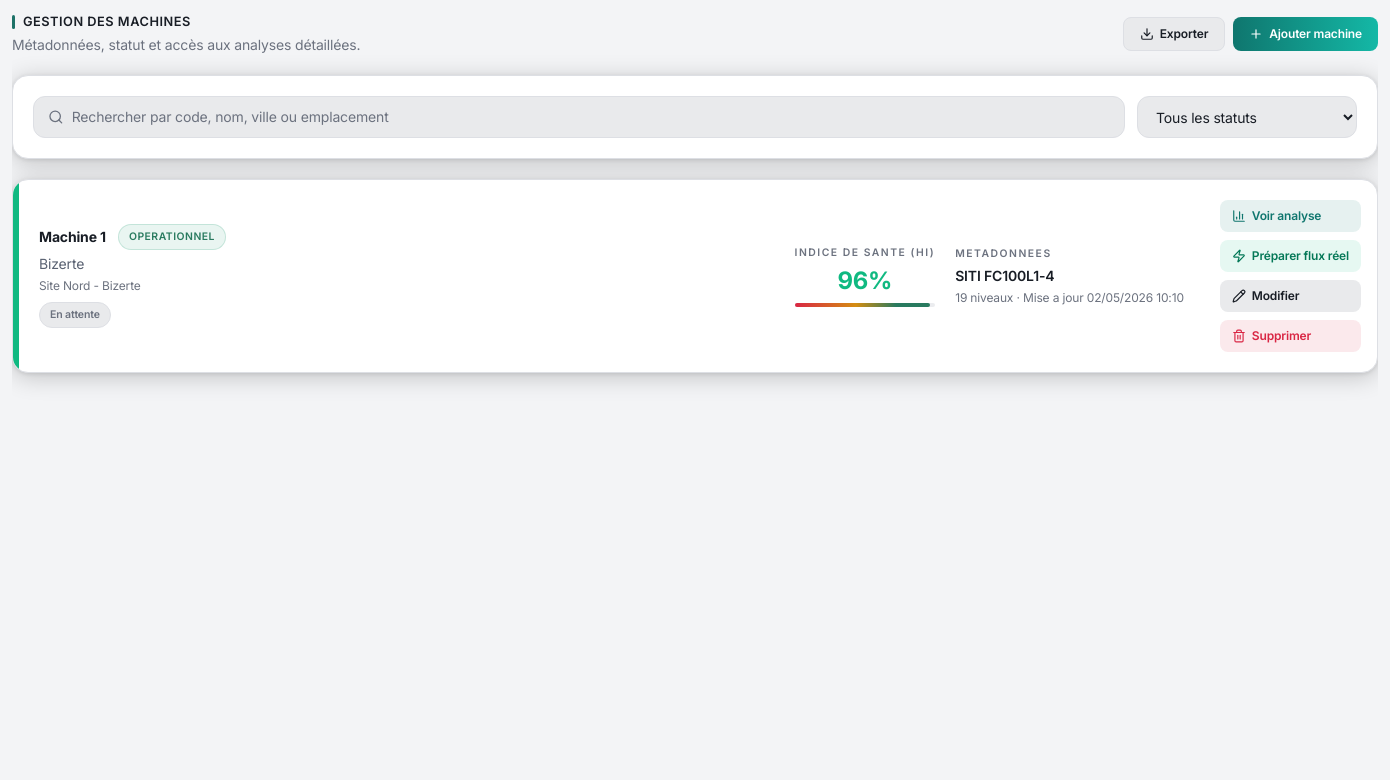
Test: MachinesPage › closes the add form after a successful machine creation
This screenshot has width=1390, height=780.
Click the button "Ajouter machine" at point(1306, 34), box x1=1233 y1=17 x2=1378 y2=51
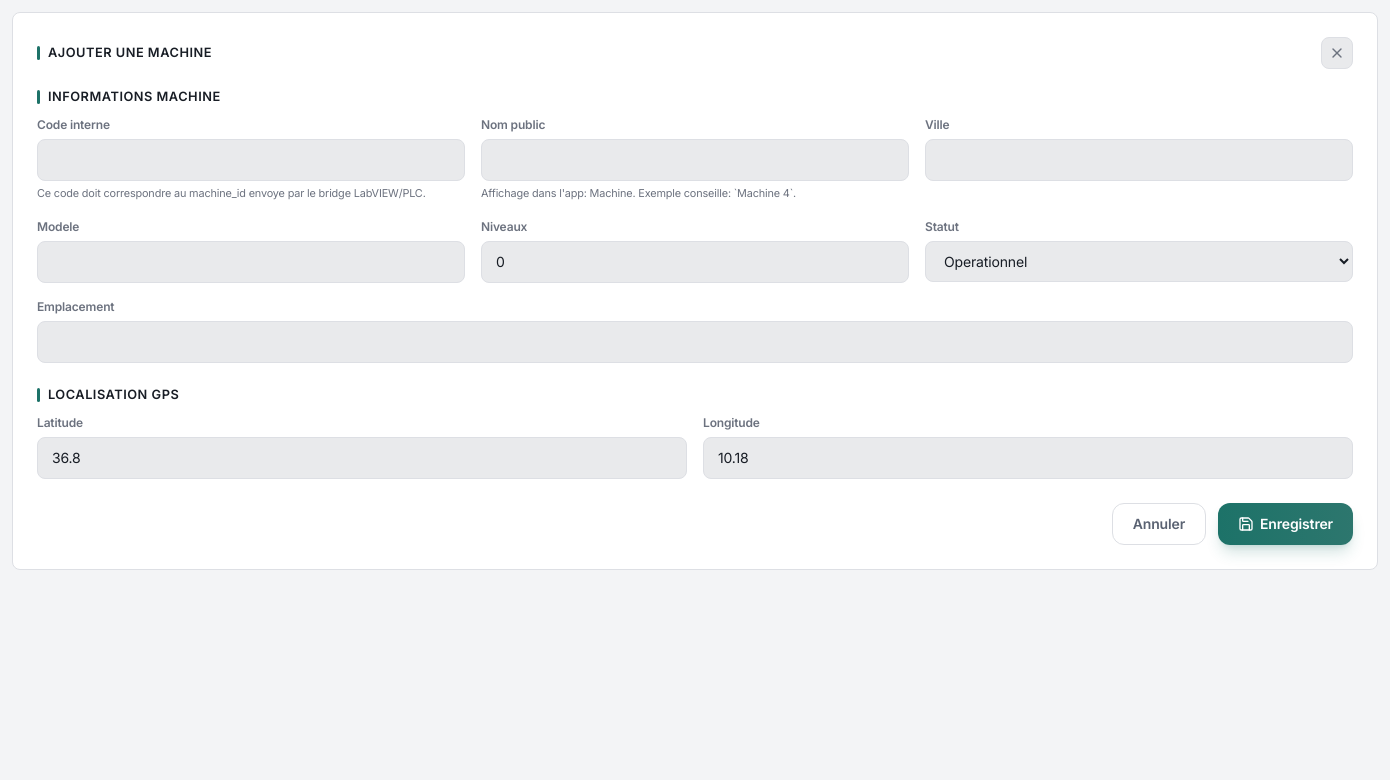
Type "ASC-Z9" into the field below "Code interne" at point(251, 160), box x1=37 y1=139 x2=465 y2=181
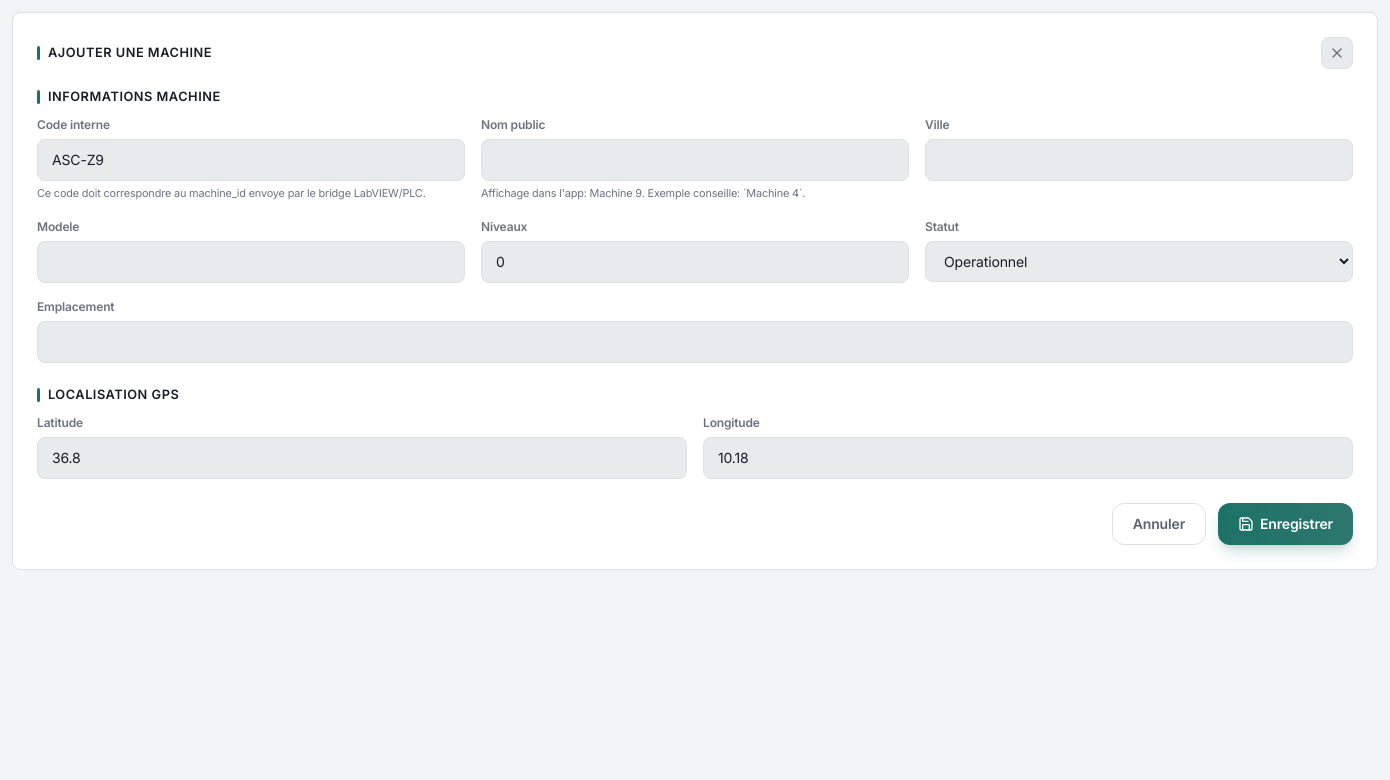
Type "Machine Z" into the field below "Nom public" at point(695, 160), box x1=481 y1=139 x2=909 y2=181
Type "Tunis" into the field below "Ville" at point(1139, 160), box x1=925 y1=139 x2=1353 y2=181
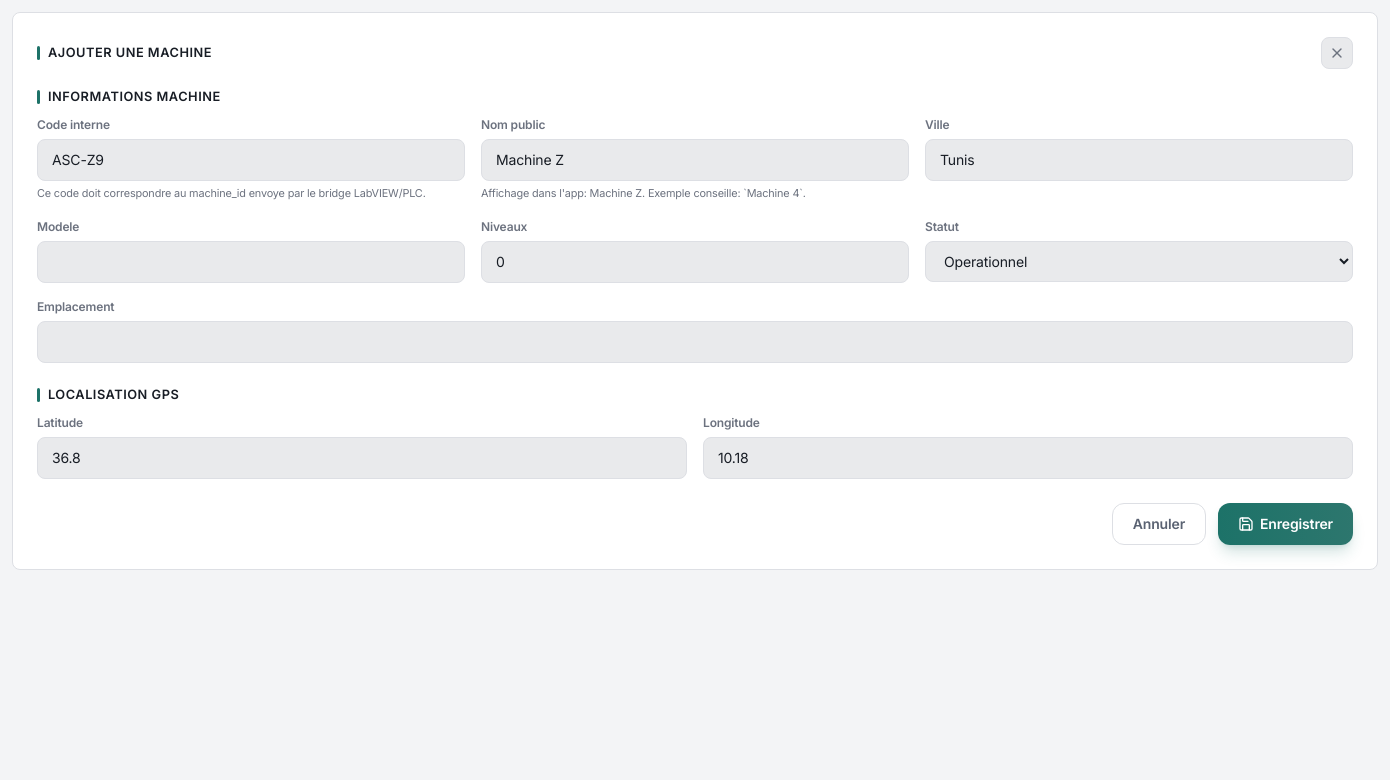
Type "Model X" into the field below "Modele" at point(251, 262), box x1=37 y1=241 x2=465 y2=283
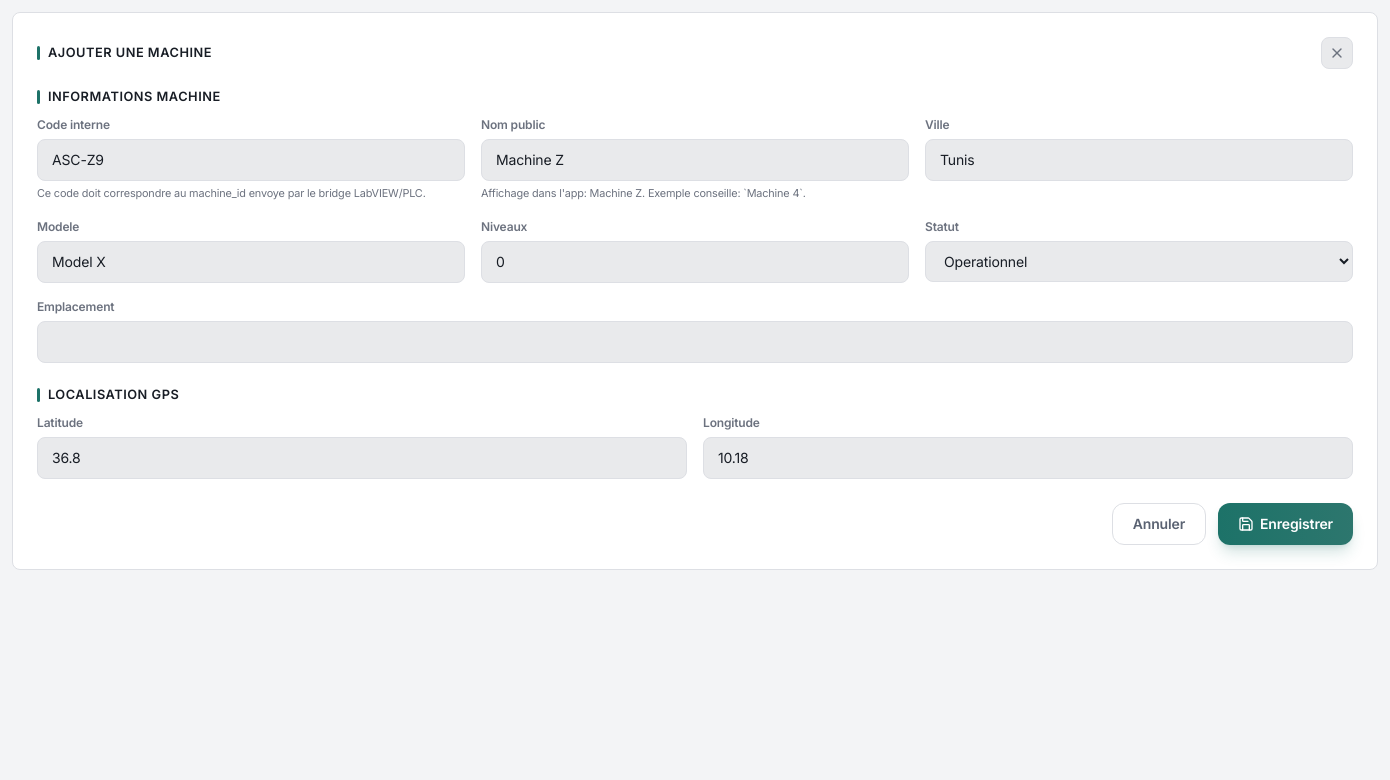
Type "Zone Test" into the field below "Emplacement" at point(695, 342), box x1=37 y1=321 x2=1353 y2=363
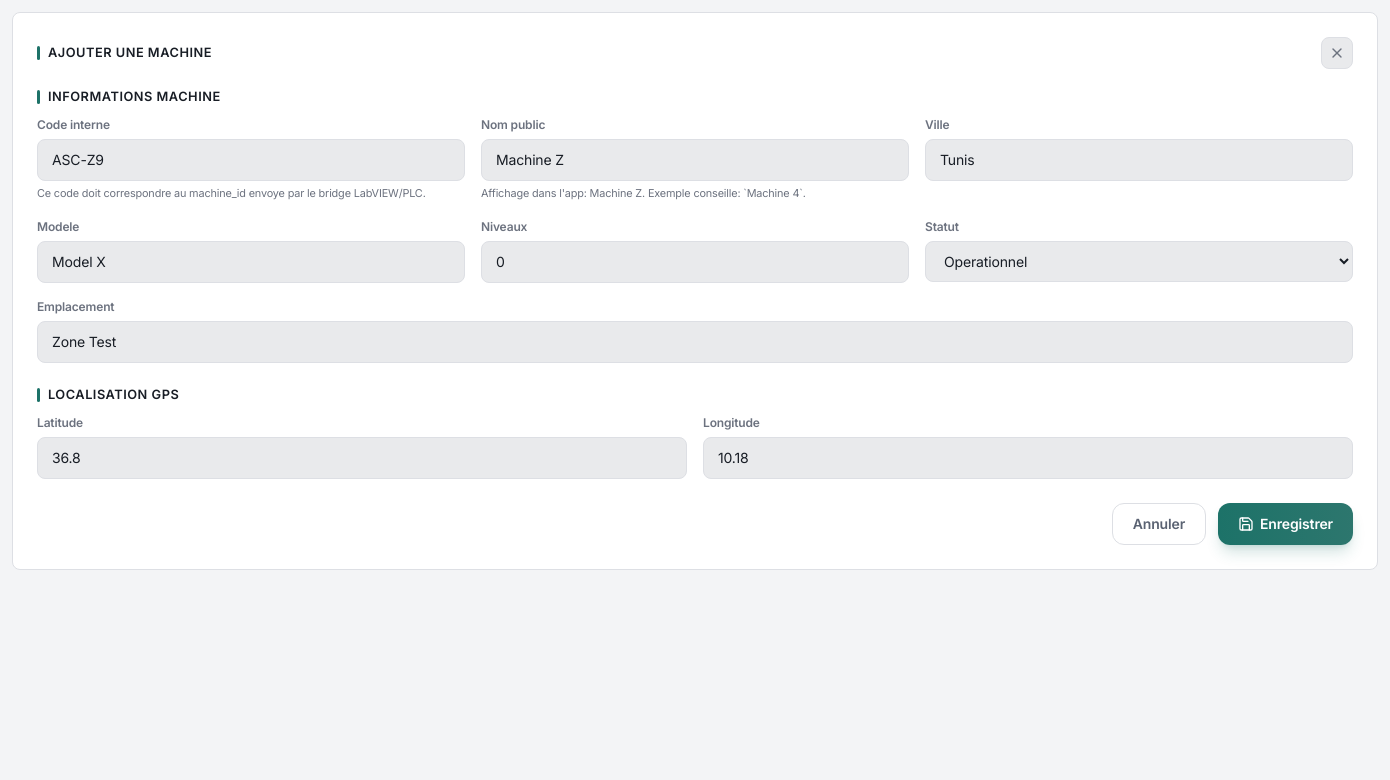
Click the button "Enregistrer" at point(1286, 524), box x1=1218 y1=503 x2=1353 y2=545
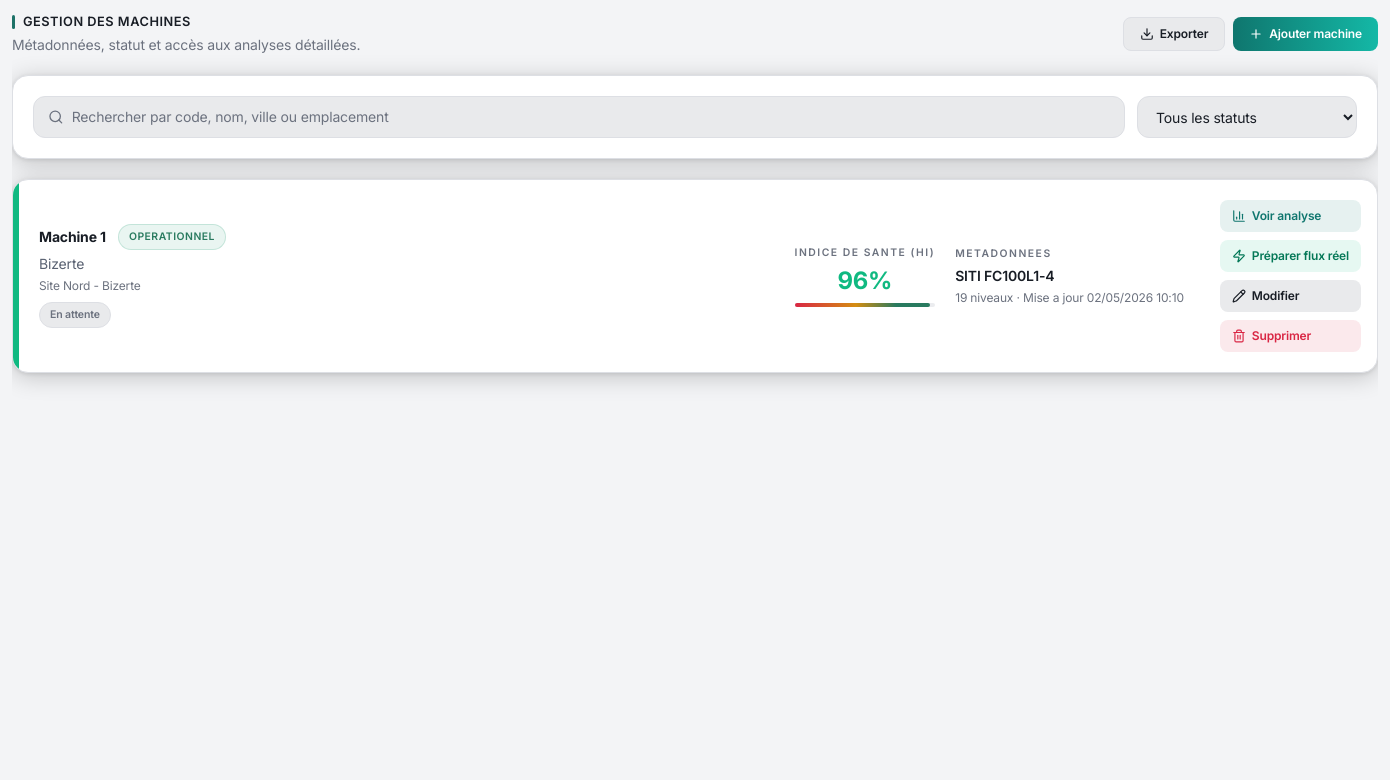
Result: the text "Ajouter une machine" is gone
Result: the text "Gestion des machines" is shown at x1=23 y1=14 x2=191 y2=29
